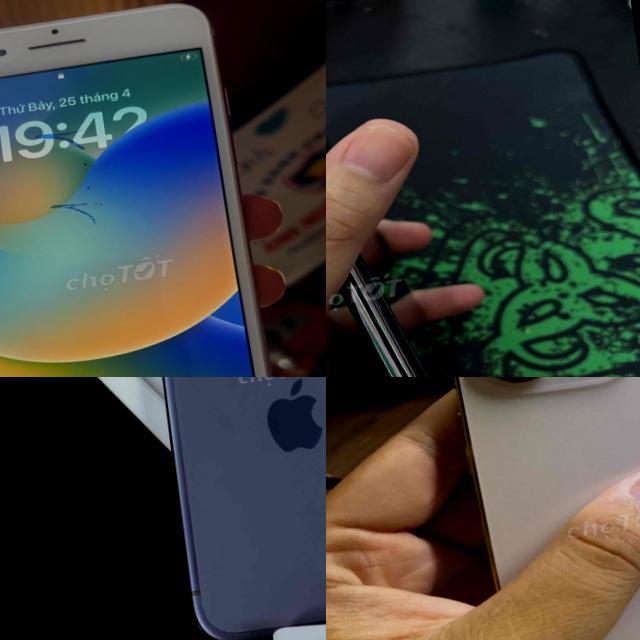gen_11: (341, 257, 426, 377)
gen_12_13: (428, 377, 640, 640)
gen_17: (111, 377, 326, 640)
gen_7_8: (0, 0, 311, 377)
scratch: (393, 359, 434, 377), (43, 36, 65, 48)
screen_defect: (44, 193, 109, 232), (28, 124, 94, 162), (79, 180, 95, 192), (76, 159, 92, 168)
